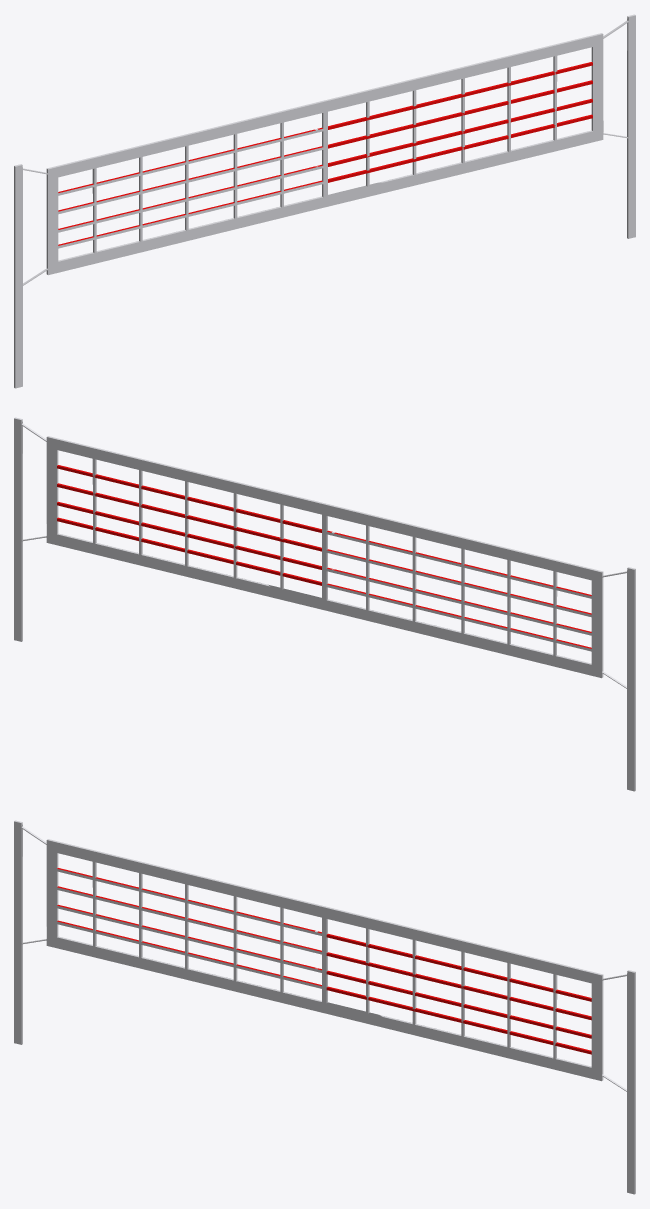
The model's file is netzv4.fbx.
The picture shows the model from 3 angles, top to bottom: view 1: azimuth 30°, elevation 25°; view 2: azimuth 150°, elevation 25°; view 3: azimuth 330°, elevation 25°; orthographic projection.
Visible parts, largest first — view 1: Cube; view 2: Cube; view 3: Cube.
Part boxes in pixels (left/top/right/bottom): Cube: left=14, top=14, right=635, bottom=388; Cube: left=14, top=417, right=635, bottom=791; Cube: left=14, top=820, right=635, bottom=1194.
Size of the model in its own units: 2459 by 840 by 9.21.
Materials: 1 (1 with a texture image).
